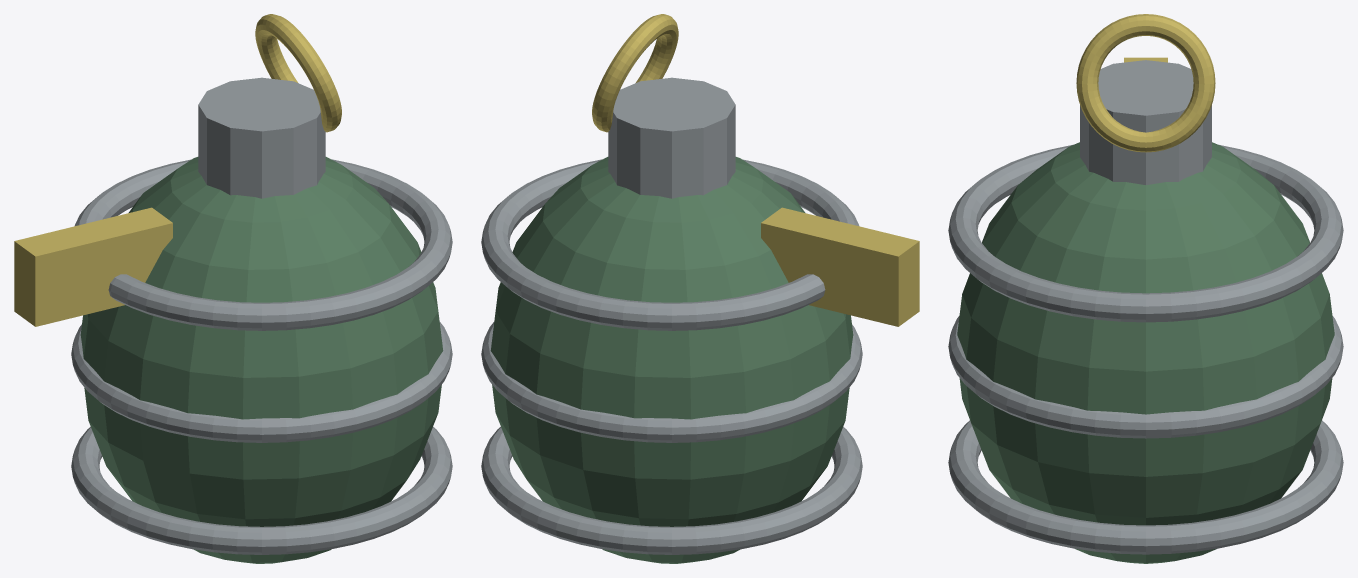
File: grenade.glb
The picture shows the model from 3 angles, left to right: view 1: azimuth 30°, elevation 25°; view 2: azimuth 150°, elevation 25°; view 3: azimuth 270°, elevation 25°; orthographic projection. The views are drawn at different scales.
Visible parts, largest first — view 1: Body, Rib.002, FuseCap, Rib, Lever, Rib.001, Pin; view 2: Body, Rib.002, FuseCap, Rib, Lever, Rib.001, Pin; view 3: Body, Rib.002, Rib, FuseCap, Rib.001, Pin.
Boxes of the visible parts, box(x1,y1,x2,y2) form: Body: box(80, 157, 443, 563); Rib.002: box(74, 159, 452, 330); FuseCap: box(198, 77, 325, 198); Rib: box(71, 427, 452, 554); Lever: box(14, 207, 172, 326); Rib.001: box(71, 322, 452, 442); Pin: box(255, 14, 341, 132); Body: box(490, 157, 853, 563); Rib.002: box(481, 159, 859, 330); FuseCap: box(608, 77, 735, 198); Rib: box(481, 427, 862, 554); Lever: box(761, 207, 919, 326); Rib.001: box(481, 322, 862, 442); Pin: box(592, 14, 678, 132); Body: box(957, 142, 1334, 563); Rib.002: box(948, 144, 1343, 322); Rib: box(948, 420, 1343, 554); FuseCap: box(1080, 60, 1211, 184); Rib.001: box(948, 316, 1343, 438); Pin: box(1076, 14, 1215, 152).
Bounding box in the file's own units: 0.1315 × 0.1643 × 0.108.
